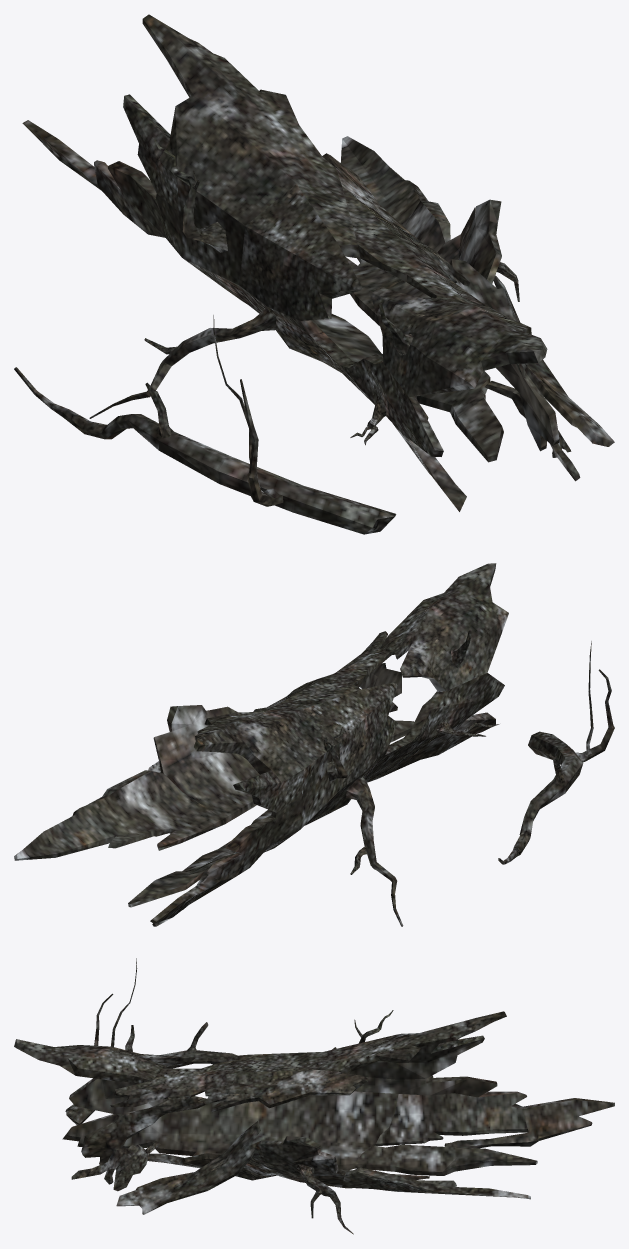
The picture shows the model from 3 angles, top to bottom: view 1: azimuth 30°, elevation 25°; view 2: azimuth 150°, elevation 25°; view 3: azimuth 270°, elevation 25°; orthographic projection. The views are drawn at different scales.
Visible parts, largest first — view 1: 1_zw_09; view 2: 1_zw_09; view 3: 1_zw_09.
Part boxes in pixels (x1=…): 1_zw_09: x1=14, y1=14, x2=614, y2=534; 1_zw_09: x1=14, y1=563, x2=614, y2=926; 1_zw_09: x1=14, y1=958, x2=614, y2=1234.
Size of the model in its own units: 3.21 by 1.78 by 5.46.
Materials: 1 (1 with a texture image).
